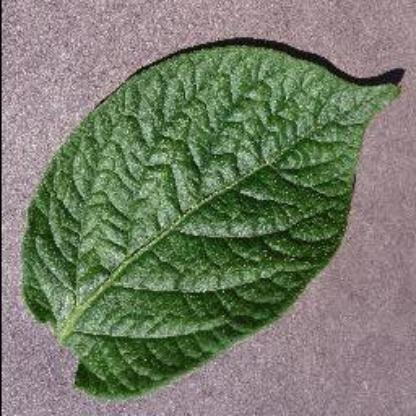Healthy-plant: (21, 27, 407, 397)
